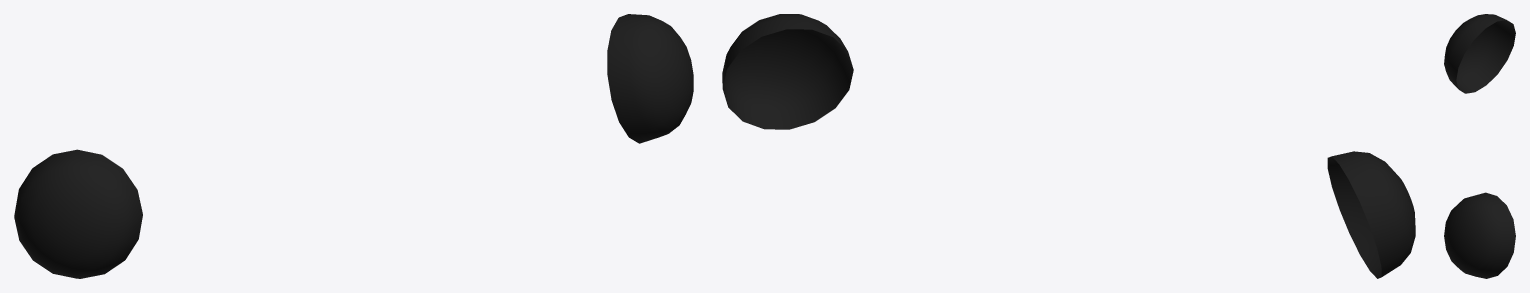
Rendered from Eye01.fbx.
The picture shows the model from 3 angles, left to right: view 1: azimuth 30°, elevation 25°; view 2: azimuth 150°, elevation 25°; view 3: azimuth 270°, elevation 25°; orthographic projection. The views are drawn at different scales.
Visible parts, largest first — view 1: Eye01; view 2: Eye01; view 3: Eye01.
Boxes of the visible parts, x1,y1,x2,y2 form: Eye01: (14,14,693,278); Eye01: (722,14,1415,278); Eye01: (1444,14,1515,278).
Size of the model in its own units: 35.33 by 5 by 5.87.
